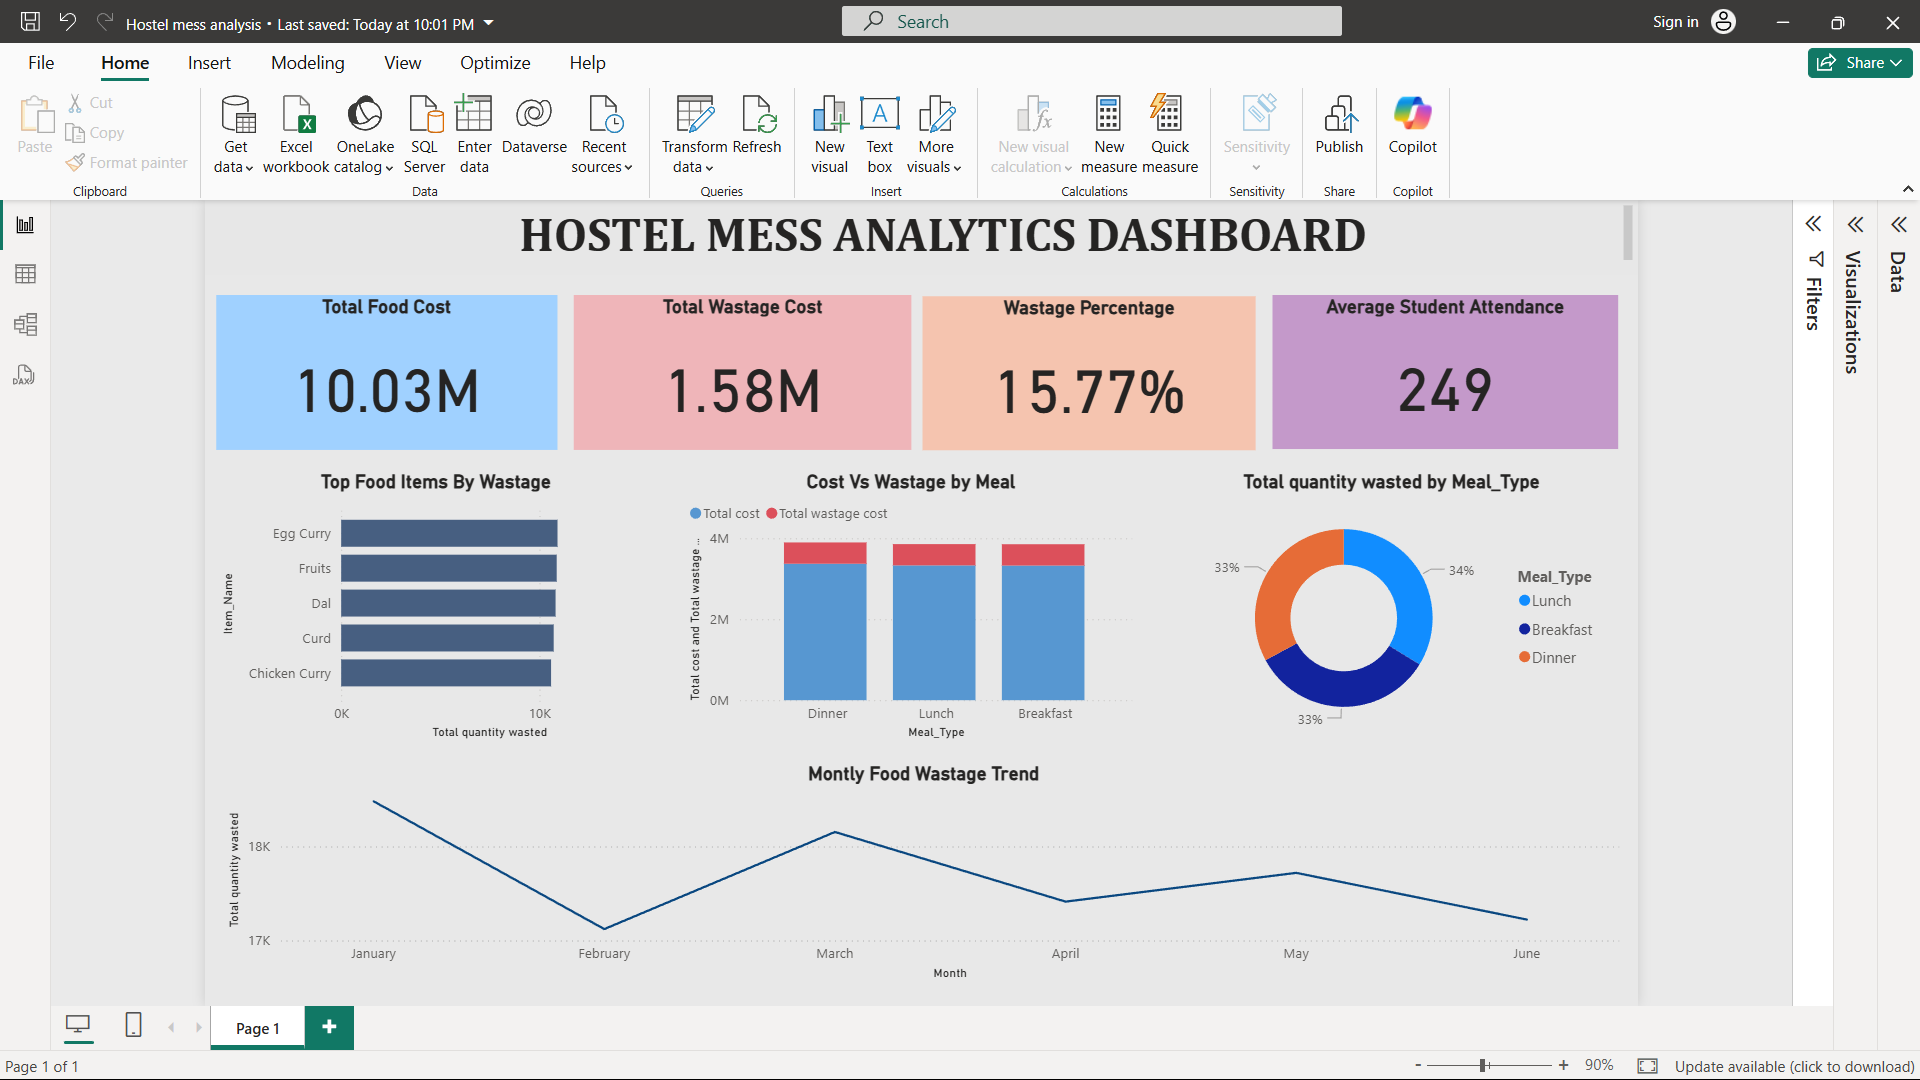

The dashboard page shown, as its layout file describes it:
{"tool":"powerbi","page":{"name":"Page 1","canvas":[1280,720],"ordinal":0},"visuals":[{"type":"card","title":"Total Food Cost","fields":{"Values":["Sheet1.Total cost"]},"box":[9.6,85.1,304.6,138.6],"z":0},{"type":"card","title":"Total Wastage Cost","fields":{"Values":["Sheet1.Total wastage cost"]},"box":[329.3,85.1,301.9,138.6],"z":1000},{"type":"card","title":"Wastage Percentage","fields":{"Values":["Sheet1.Wastage_%"]},"box":[640.8,86.4,297.8,137.2],"z":2000},{"type":"card","title":"Average Student Attendance","fields":{"Values":["Sheet1.Average attendance"]},"box":[953.7,85.1,308.7,137.2],"z":3000},{"type":"donutChart","fields":{"Category":["Sheet1.Meal_Type"],"Y":["Sheet1.Total quantity wasted"]},"box":[857.6,241.5,404.8,245.6],"z":4000},{"type":"barChart","title":"Top Food Items By Wastage","fields":{"Category":["Sheet1.Item_Name"],"Y":["Sheet1.Total quantity wasted"]},"box":[9.6,241.5,392.5,245.6],"z":5000},{"type":"columnChart","title":"Cost Vs Wastage by Meal","fields":{"Category":["Sheet1.Meal_Type"],"Y":["Sheet1.Total cost","Sheet1.Total wastage cost"]},"box":[428.1,241.5,406.2,245.6],"z":6000},{"type":"lineChart","title":"Montly Food Wastage Trend","fields":{"Category":["Sheet1.Date.Variation.Date Hierarchy.Month"],"Y":["Sheet1.Total quantity wasted"]},"box":[15.1,502.2,1252.8,199],"z":7000},{"type":"textbox","box":[0,0,1280.3,67.2],"z":8000}]}

Visuals, with their boxes on the page's 1280x720 design canvas (x1, y1, x2, y2). These are canvas units, not pixel positions in the 1920x1080 screenshot, which may show the page scaled, cropped or inside an application window:
"Total Food Cost" card: {"x1": 10, "y1": 85, "x2": 314, "y2": 224}
"Total Wastage Cost" card: {"x1": 329, "y1": 85, "x2": 631, "y2": 224}
"Wastage Percentage" card: {"x1": 641, "y1": 86, "x2": 939, "y2": 224}
"Average Student Attendance" card: {"x1": 954, "y1": 85, "x2": 1262, "y2": 222}
donutChart - Sheet1.Meal_Type x Sheet1.Total quantity wasted: {"x1": 858, "y1": 242, "x2": 1262, "y2": 487}
"Top Food Items By Wastage" barChart: {"x1": 10, "y1": 242, "x2": 402, "y2": 487}
"Cost Vs Wastage by Meal" columnChart: {"x1": 428, "y1": 242, "x2": 834, "y2": 487}
"Montly Food Wastage Trend" lineChart: {"x1": 15, "y1": 502, "x2": 1268, "y2": 701}
textbox: {"x1": 0, "y1": 0, "x2": 1280, "y2": 67}
